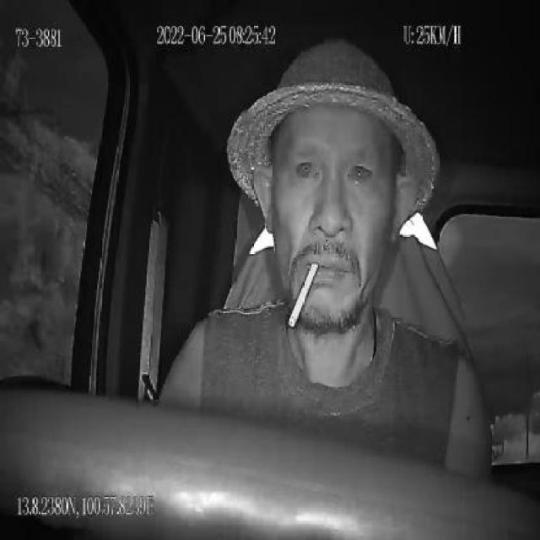smoking: (289, 260, 320, 332)
